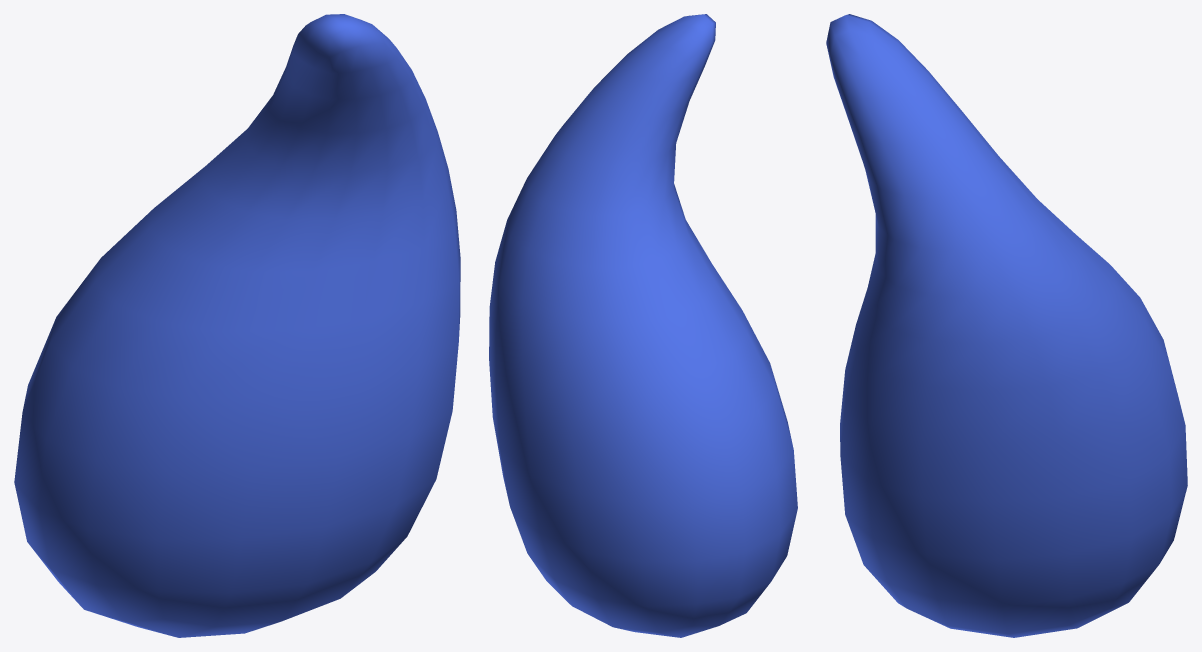
File: water.gltf
The picture shows the model from 3 angles, left to right: view 1: azimuth 30°, elevation 25°; view 2: azimuth 150°, elevation 25°; view 3: azimuth 270°, elevation 25°; orthographic projection. The views are drawn at different scales.
Parts seen in each view (by area): view 1: Cube; view 2: Cube; view 3: Cube.
Boxes of the visible parts, <box> form: Cube: <box>14,14,460,637</box>; Cube: <box>489,14,797,637</box>; Cube: <box>826,14,1187,637</box>.
Size of the model in its own units: 2.2 by 3.79 by 1.99.
